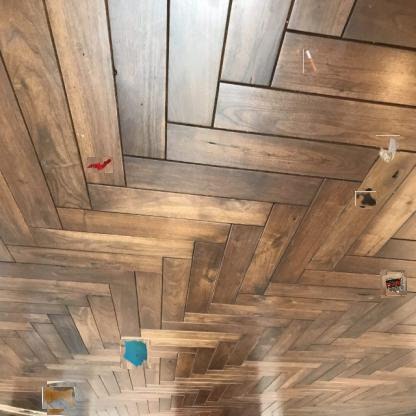dirty: (121, 339, 150, 369), (376, 135, 400, 164), (380, 271, 406, 297), (87, 157, 113, 173), (303, 49, 318, 73)
liquid: (44, 384, 72, 412), (357, 189, 374, 208)
